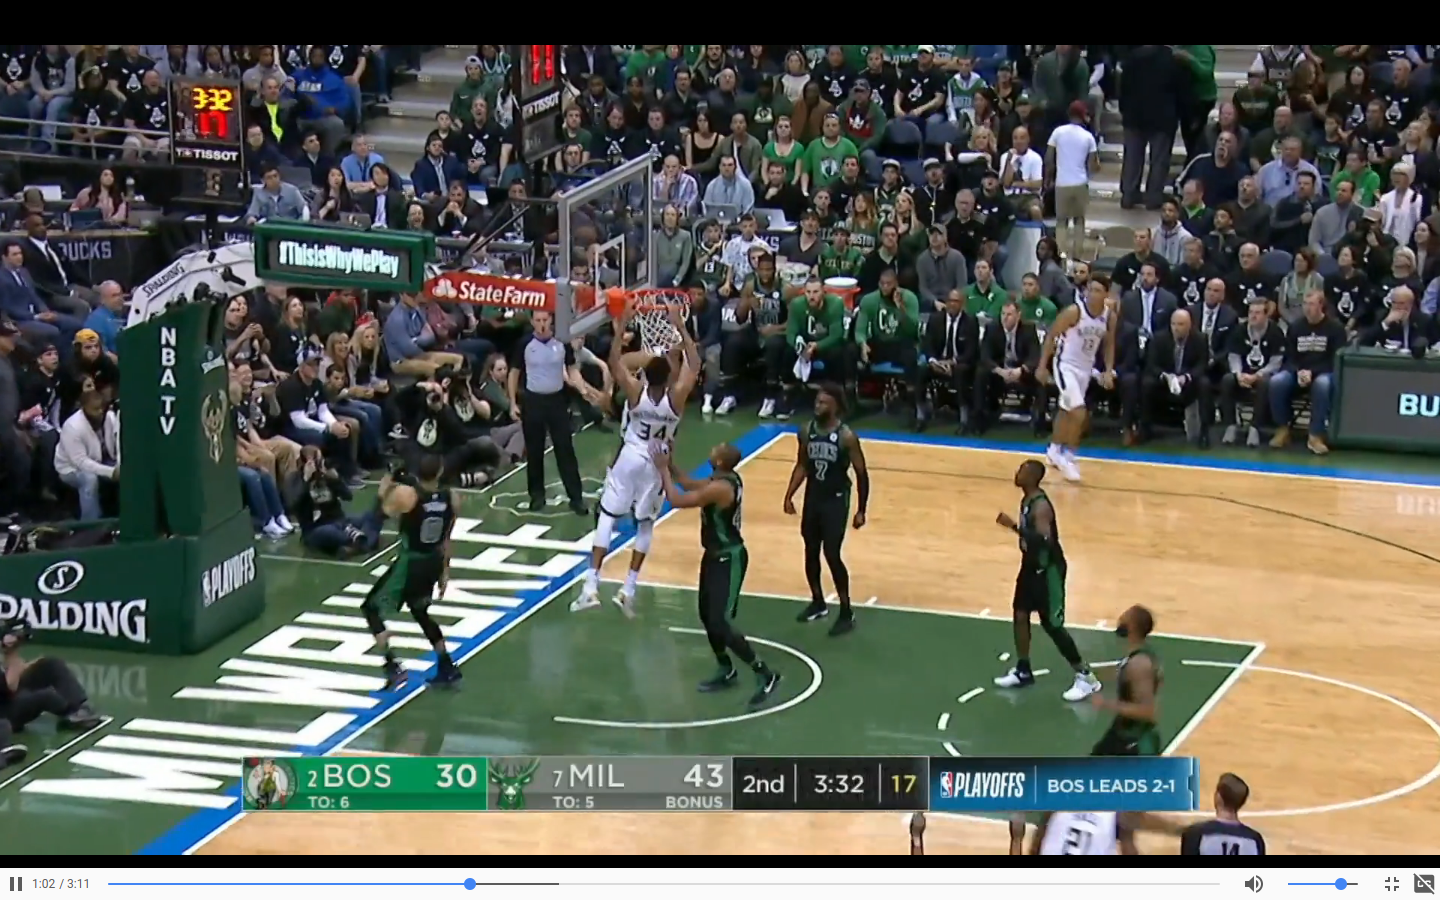basketball player: (564, 319, 712, 622), (659, 436, 788, 705), (356, 448, 470, 702), (988, 443, 1095, 709), (776, 386, 876, 642), (1033, 274, 1125, 483), (1079, 599, 1184, 763)
referee: (512, 308, 602, 522)
